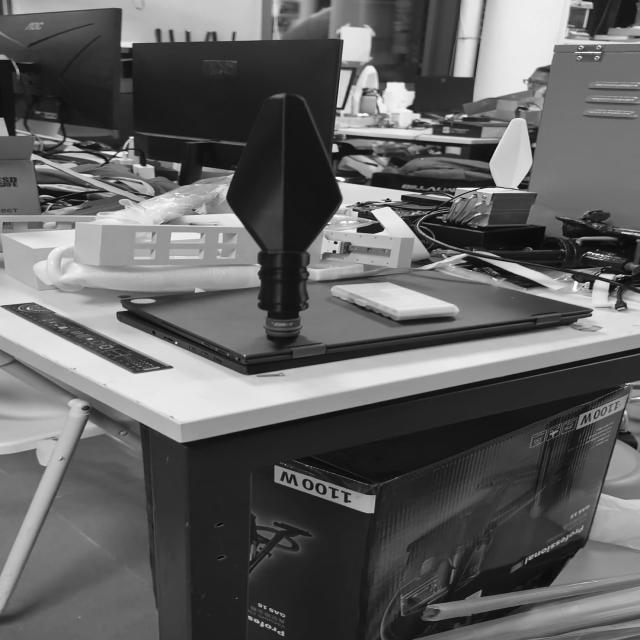base: (264, 318, 302, 342)
